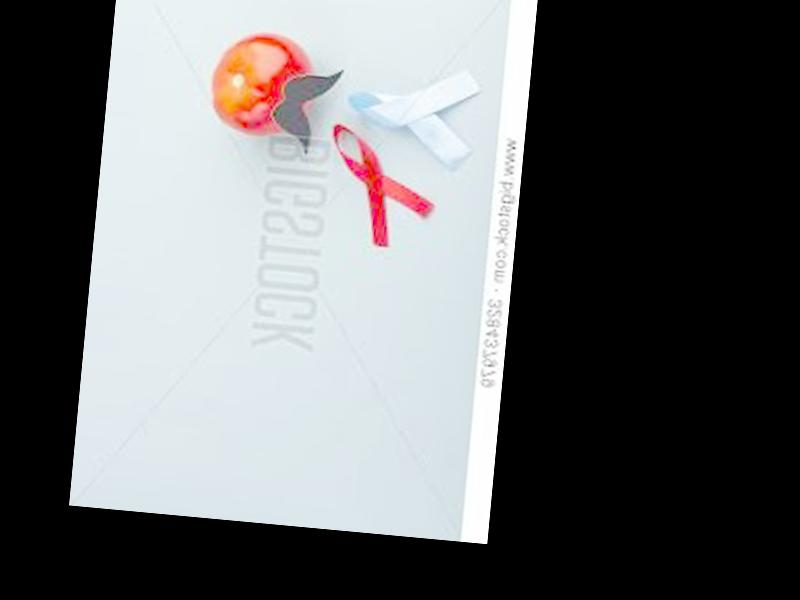Tomato: (206, 28, 318, 141)
